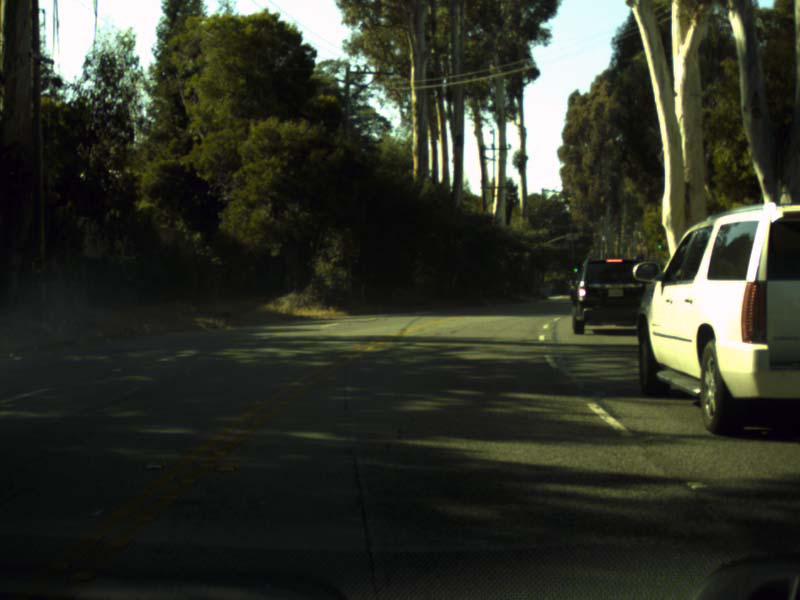Green: (657, 239, 662, 250), (572, 264, 577, 273)
